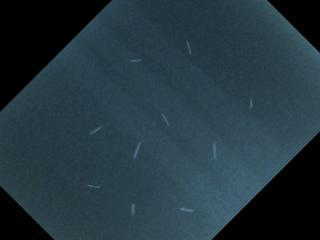scratch: (133, 141, 143, 159), (160, 113, 170, 127), (89, 125, 103, 135), (179, 207, 194, 213), (212, 142, 217, 159), (186, 40, 192, 54), (87, 184, 101, 189), (129, 58, 143, 63), (131, 203, 136, 215), (249, 98, 254, 110)
